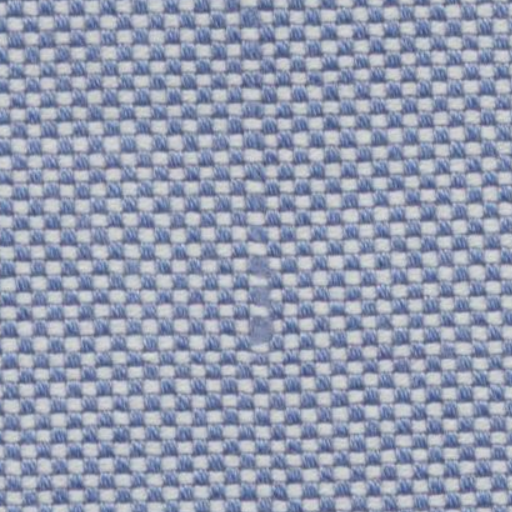TuoSha: (217, 20, 300, 478)
